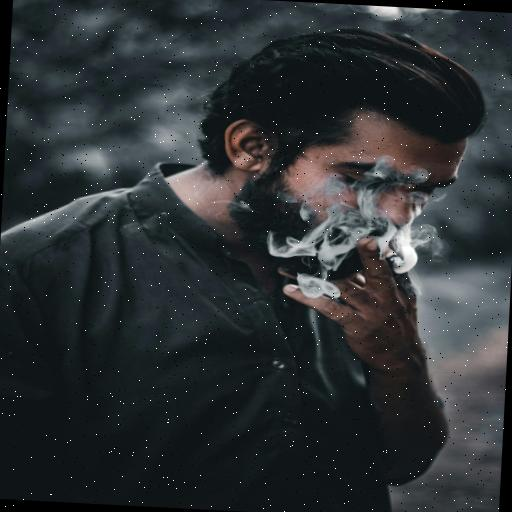terdeteksi merokok: (302, 146, 472, 308)
